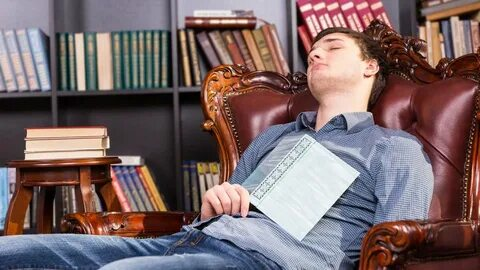sleep: (172, 25, 435, 270)
